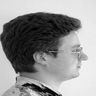ear: (29, 45, 53, 71)
